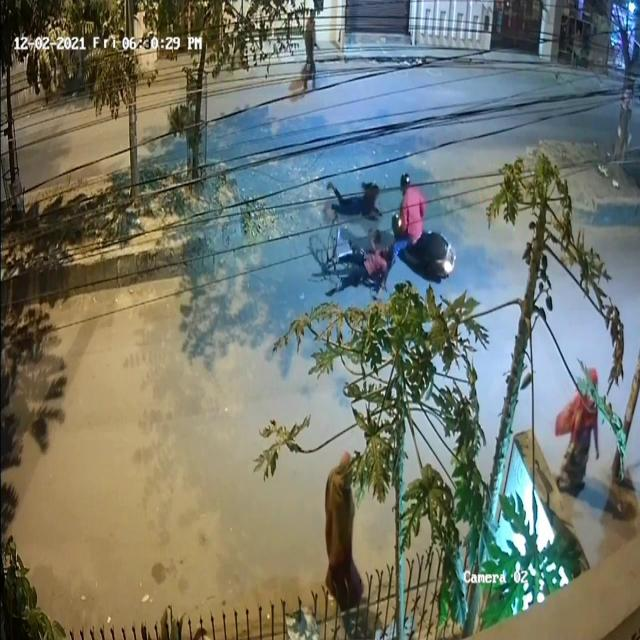accident: (309, 171, 458, 309)
